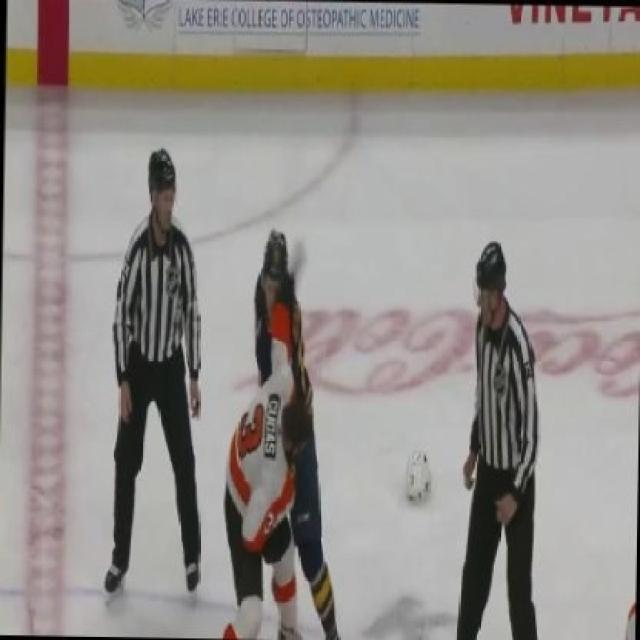fight: (216, 223, 344, 639)
non-fight: (89, 145, 220, 597), (438, 232, 562, 638)
